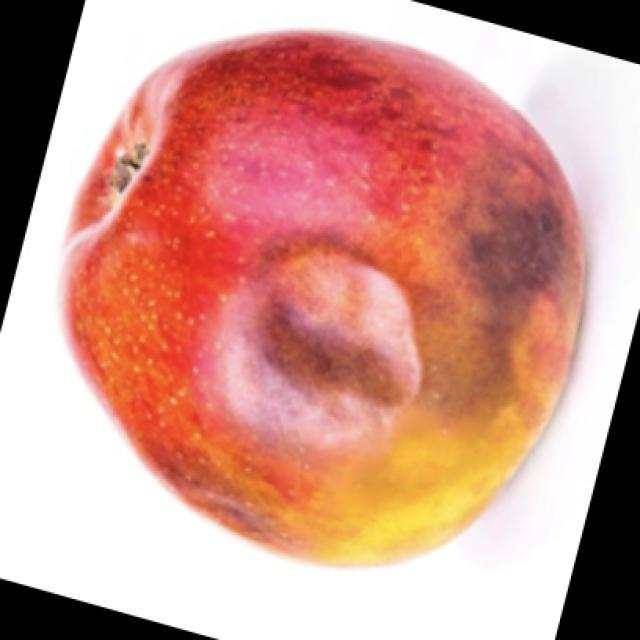Rotten: (80, 42, 590, 545)
